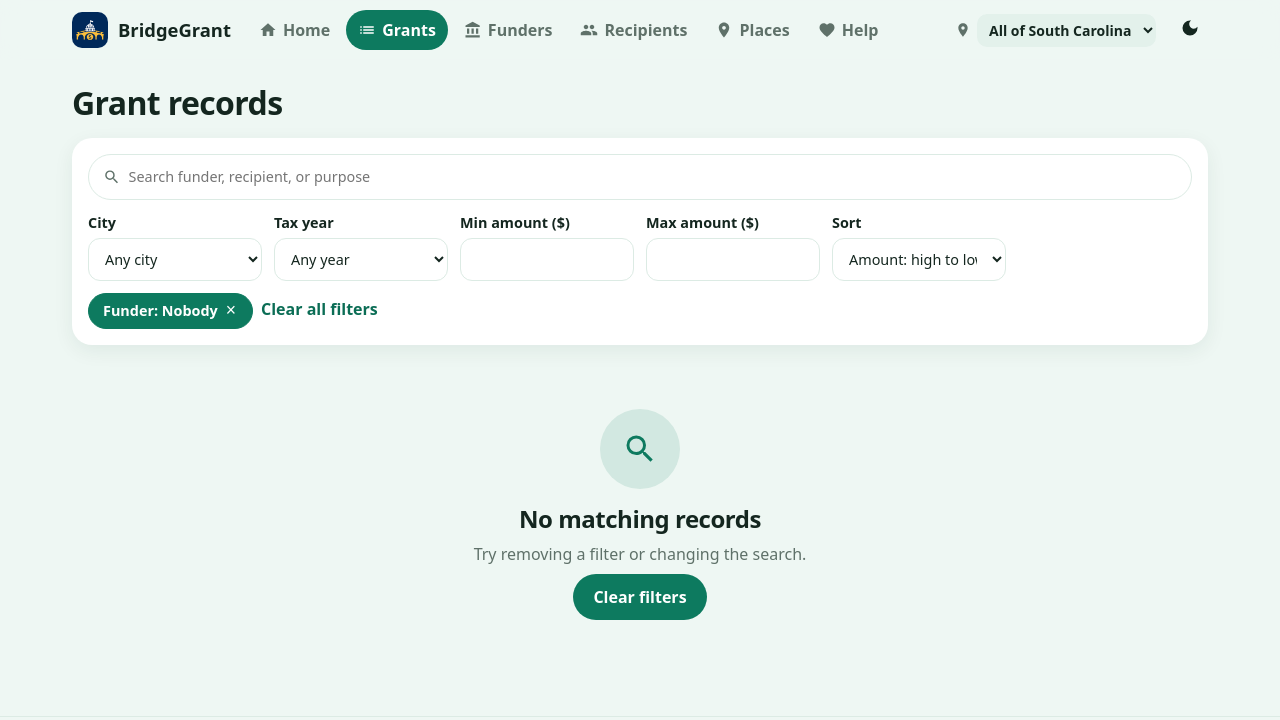
it: BridgeGrant website › drill-down filter from URL shows a removable chip and empty state
The width and height of the screenshot is (1280, 720).
expect the heading "No matching records" is shown: met, box [519, 505, 761, 534]
expect the text "Funder: Nobody" is shown: met, box [103, 301, 218, 320]
Click the button named "Remove Funder: Nobody".
click(231, 311)  # box [224, 300, 238, 322]
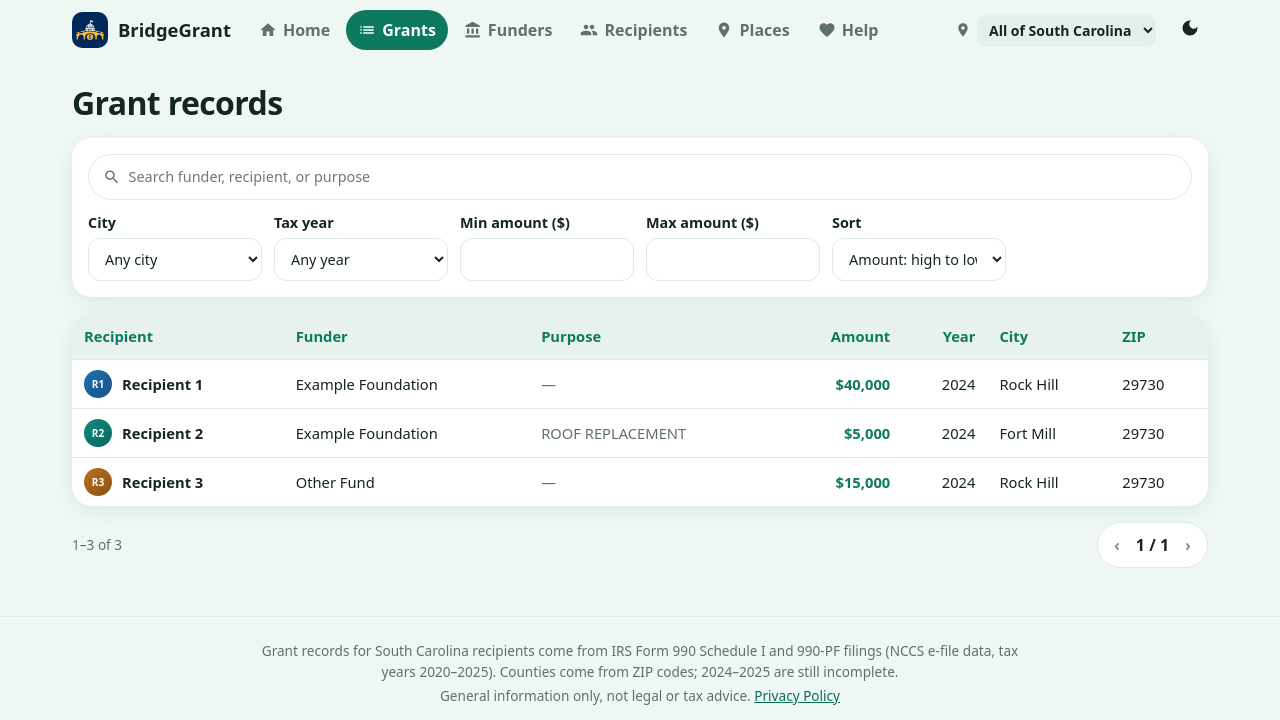
expect the text "Recipient 1" is shown: met, box [122, 373, 203, 395]
